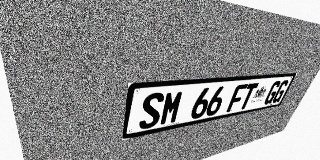6: (189, 87, 214, 120), (204, 86, 228, 117)
F: (226, 84, 248, 112)
G: (262, 81, 282, 105), (271, 80, 290, 103)
M: (159, 90, 185, 126)
S: (138, 92, 165, 130)
T: (237, 83, 259, 110)
